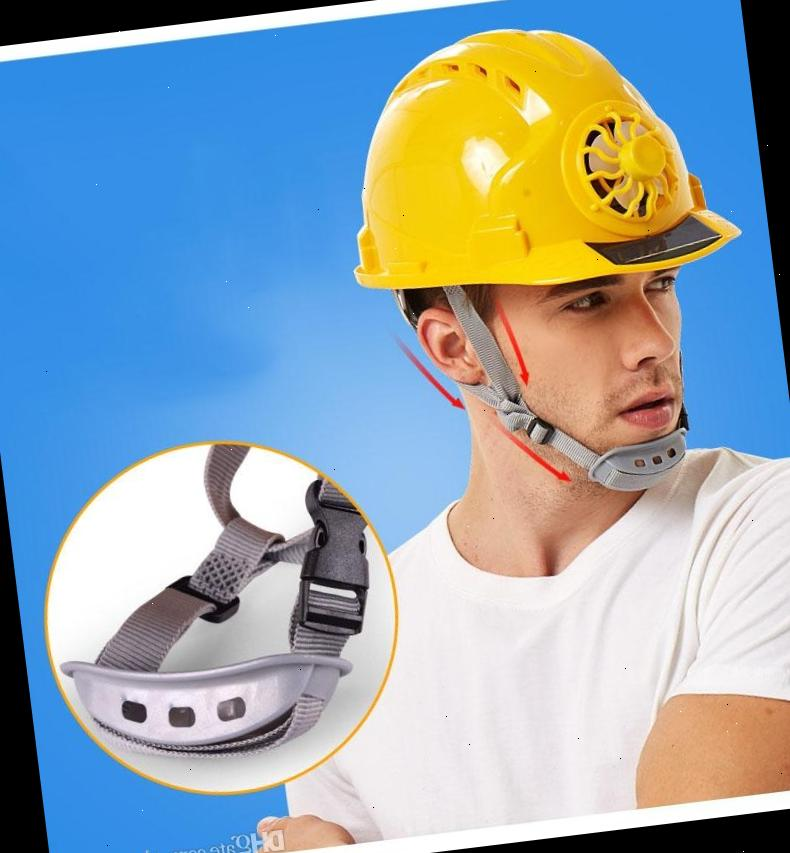helmet: (328, 1, 748, 322)
no_wear: (320, 457, 790, 843)
